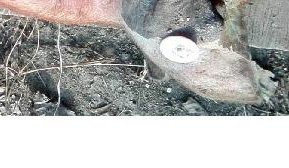text: (148, 19, 211, 74)
